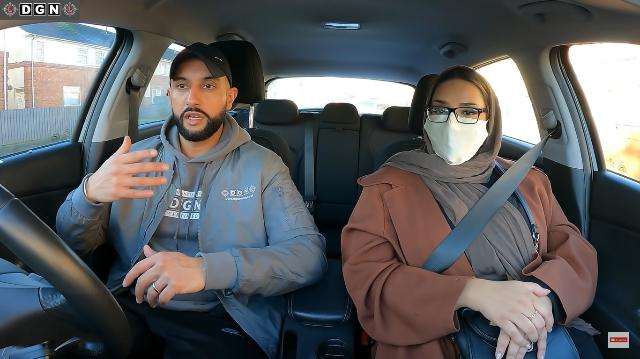no seatbelt: (130, 122, 298, 332), (420, 120, 562, 274)
seatbelt: (420, 120, 560, 276)
